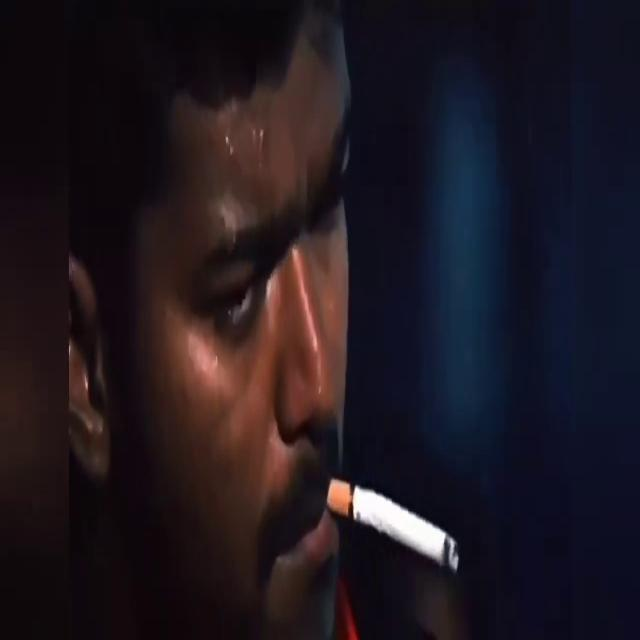smoking: (150, 108, 500, 600)
